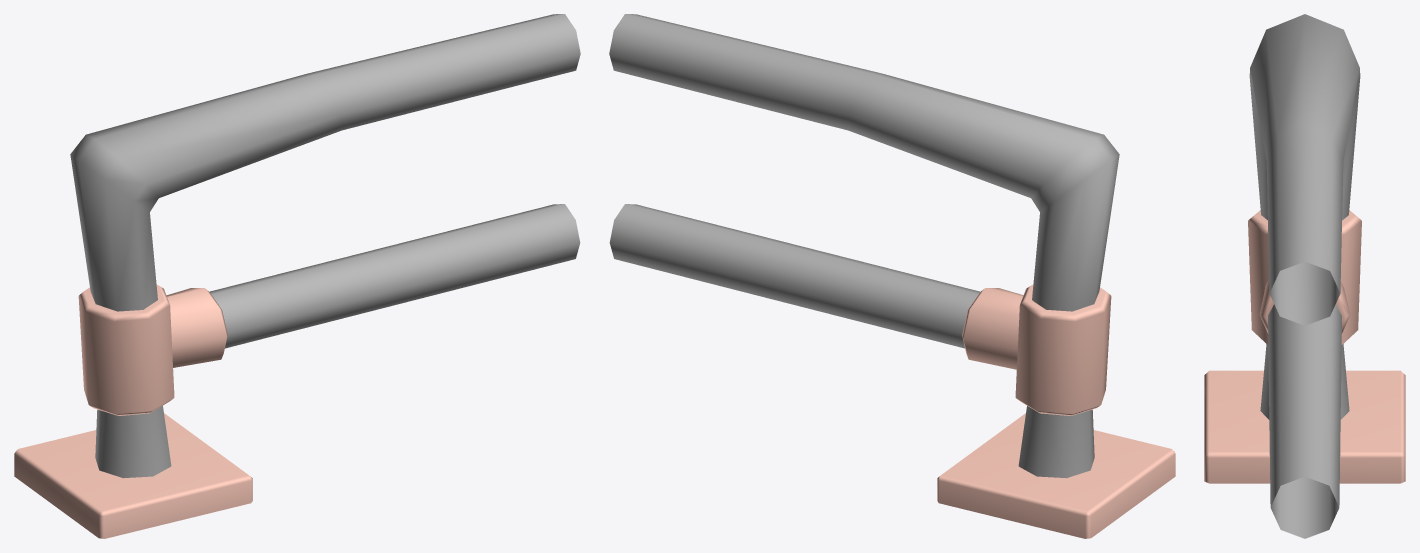
Rendered from railing_001.fbx.
The picture shows the model from 3 angles, left to right: view 1: azimuth 30°, elevation 25°; view 2: azimuth 150°, elevation 25°; view 3: azimuth 270°, elevation 25°; orthographic projection. The views are drawn at different scales.
Visible parts, largest first — view 1: railing_001; view 2: railing_001; view 3: railing_001.
Boxes of the visible parts, x1,y1,x2,y2 form: railing_001: [14, 14, 580, 538]; railing_001: [609, 14, 1175, 538]; railing_001: [1204, 14, 1405, 538].
Size of the model in its own units: 147 by 44.58 by 102.
